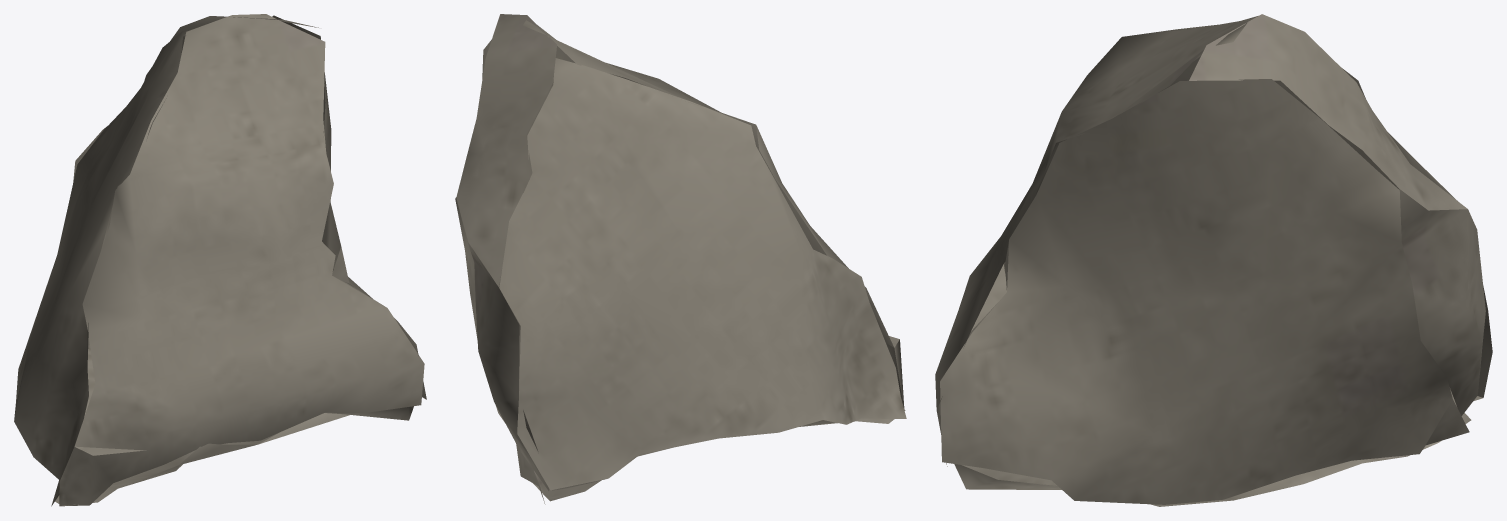
Rendered from rock_c_lo.glb.
The picture shows the model from 3 angles, left to right: view 1: azimuth 30°, elevation 25°; view 2: azimuth 150°, elevation 25°; view 3: azimuth 270°, elevation 25°; orthographic projection. The views are drawn at different scales.
Parts seen in each view (by area): view 1: rock_c_lo; view 2: rock_c_lo; view 3: rock_c_lo.
Part boxes in pixels (x1=…): rock_c_lo: x1=14, y1=14, x2=426, y2=506; rock_c_lo: x1=455, y1=14, x2=906, y2=504; rock_c_lo: x1=935, y1=14, x2=1492, y2=506.
Size of the model in its own units: 1.27 by 1.28 by 1.39.
Materials: 1 (1 with a texture image).
